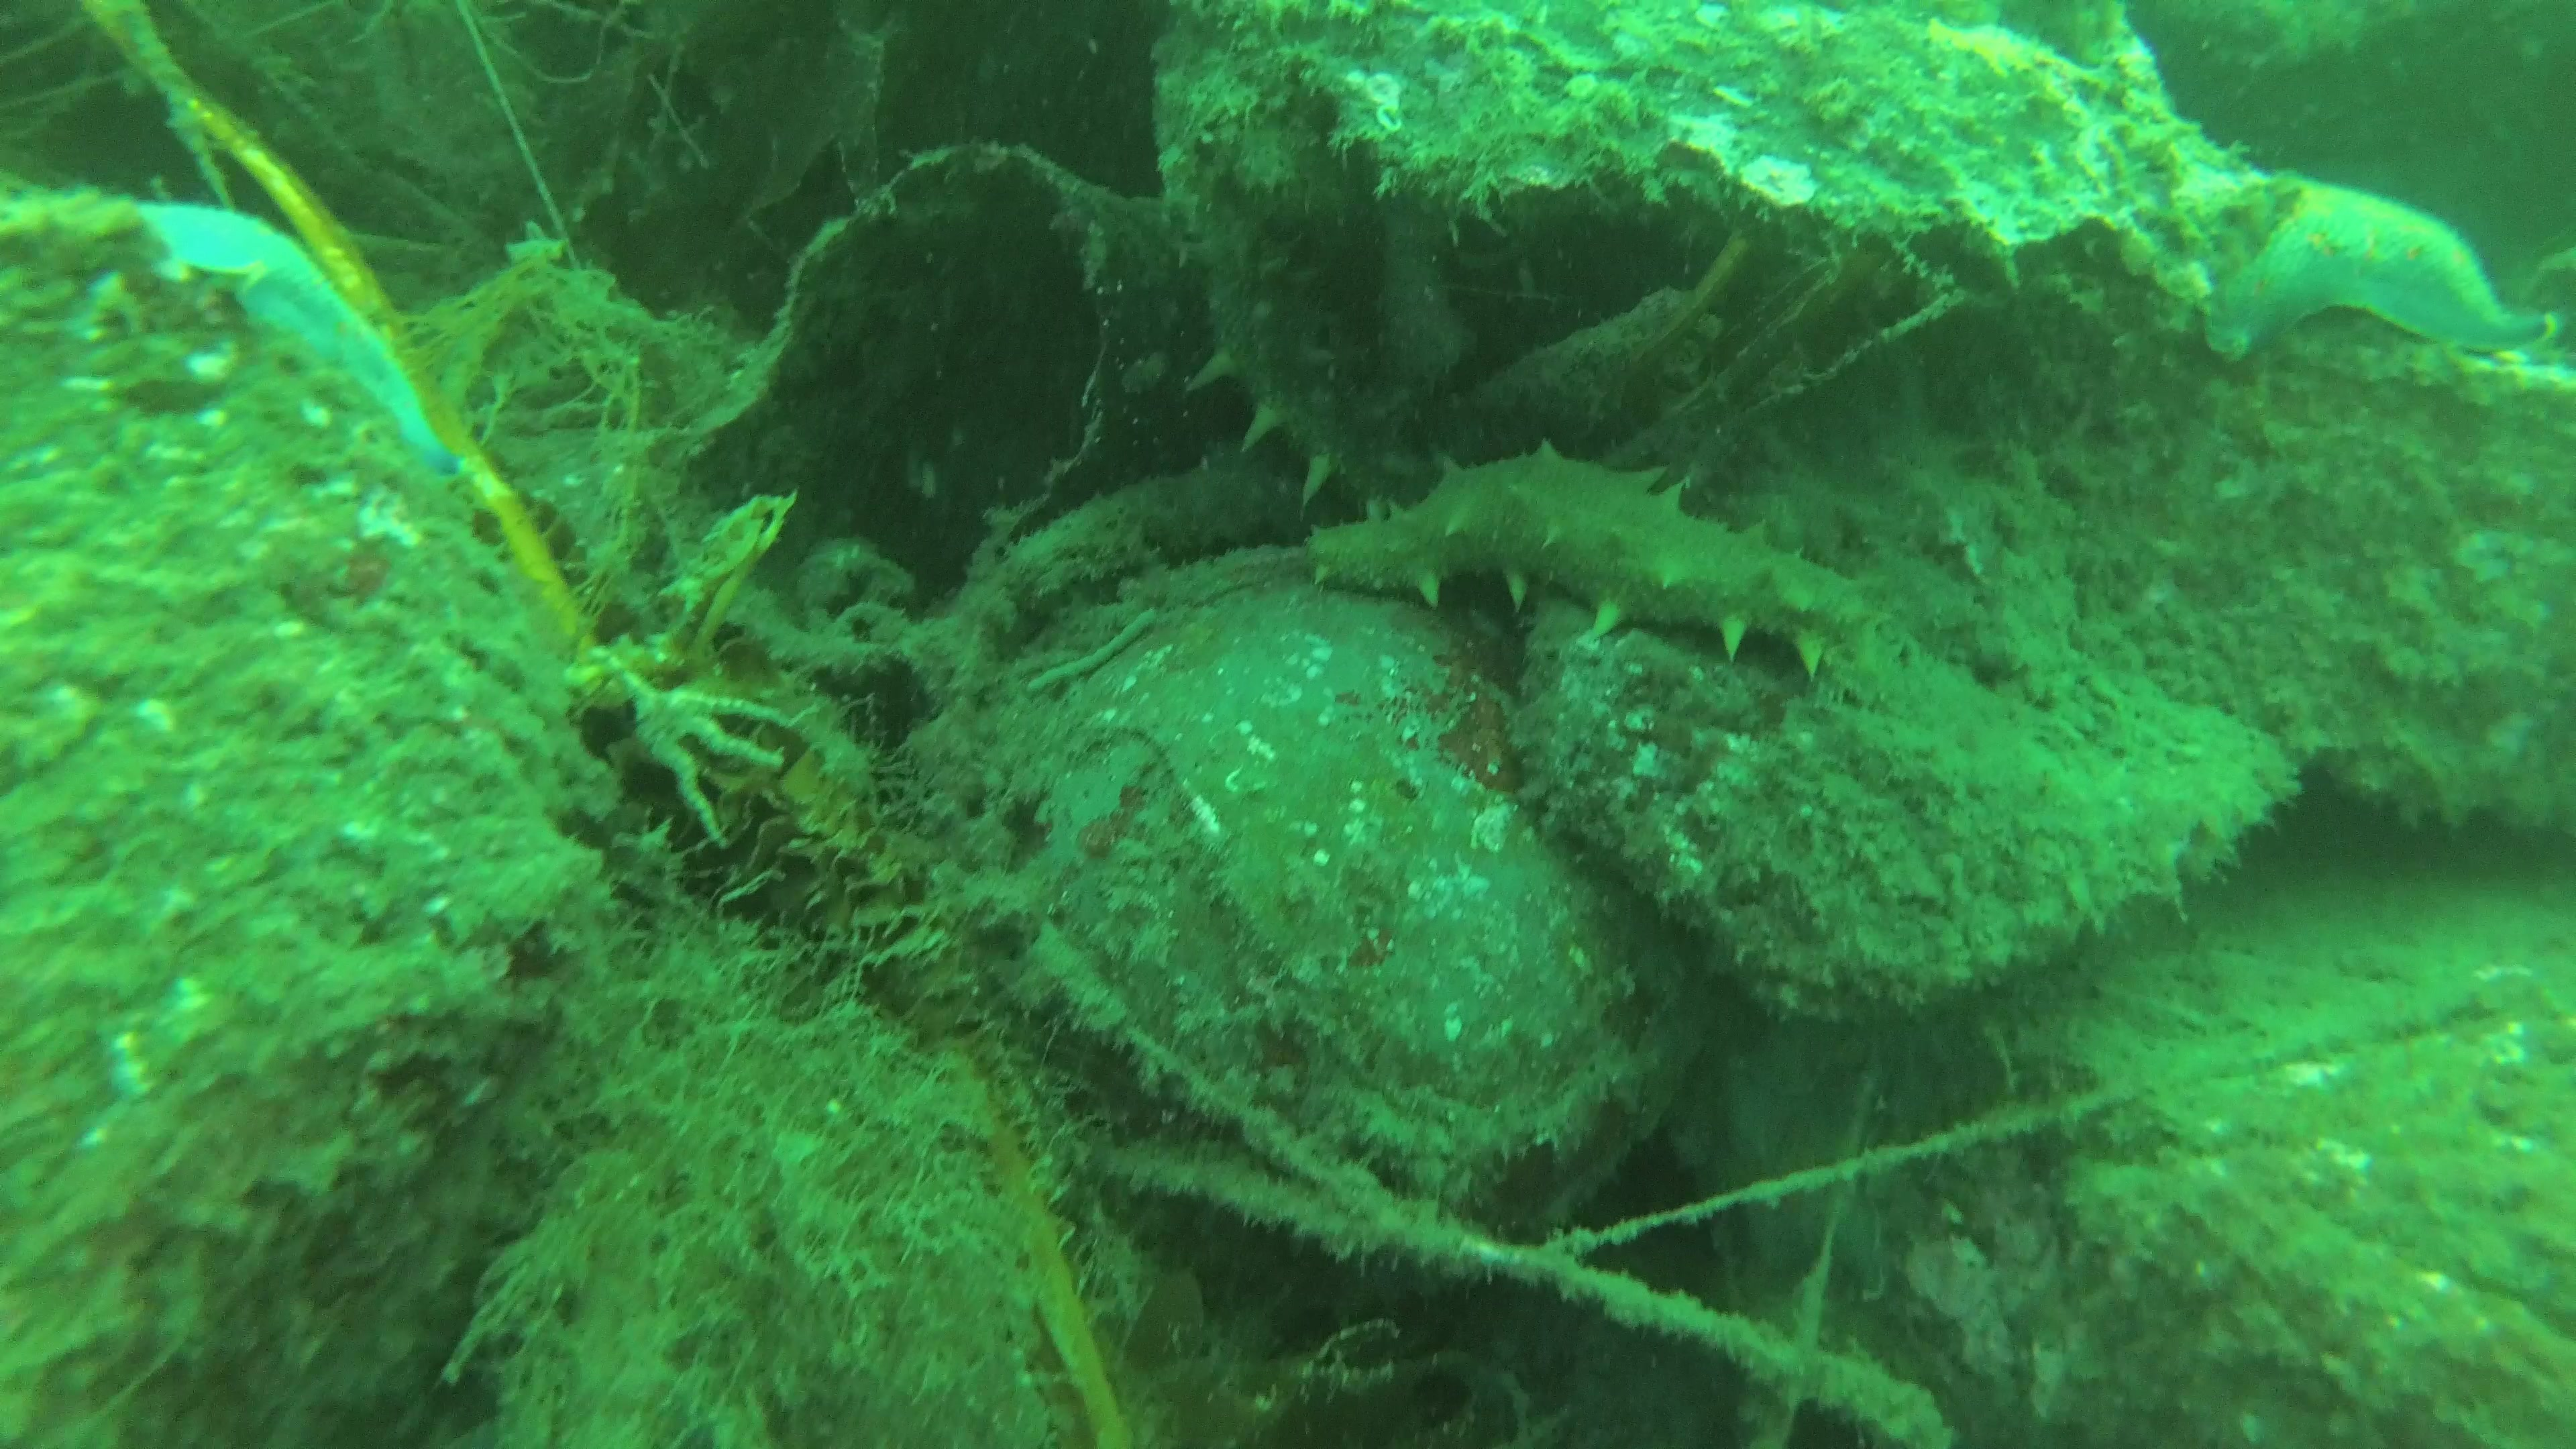holothurian: (1309, 435, 1879, 683), (1175, 157, 1442, 531)
starfish: (126, 203, 487, 487), (2167, 166, 2560, 386)
